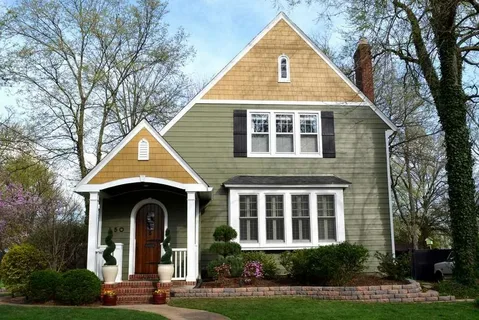private_hause: (129, 16, 396, 286)
